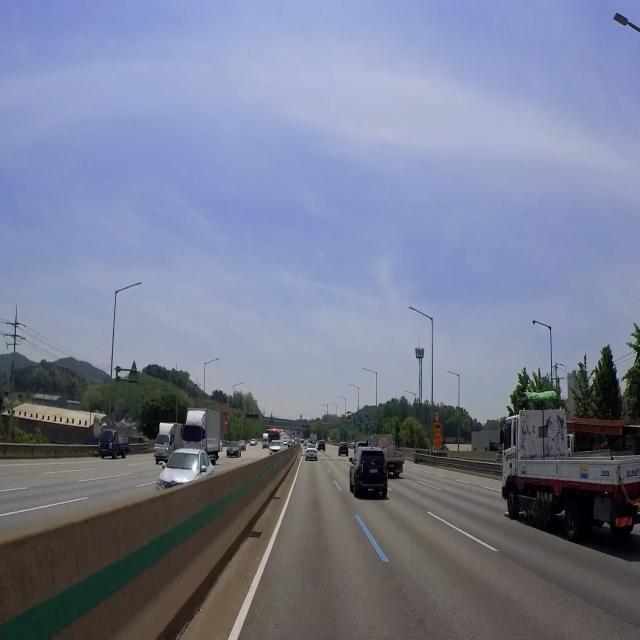car: (368, 468, 379, 474), (388, 463, 395, 468), (308, 454, 314, 458), (343, 449, 346, 452), (321, 447, 323, 449)
